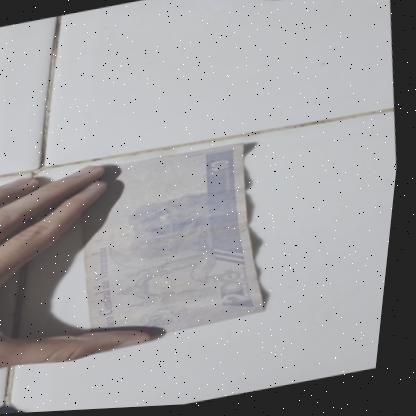ten-back-vef: (69, 139, 288, 354)
